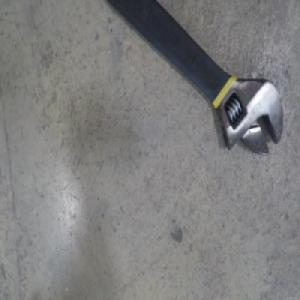AdjustableWrench: (102, 0, 279, 158)
